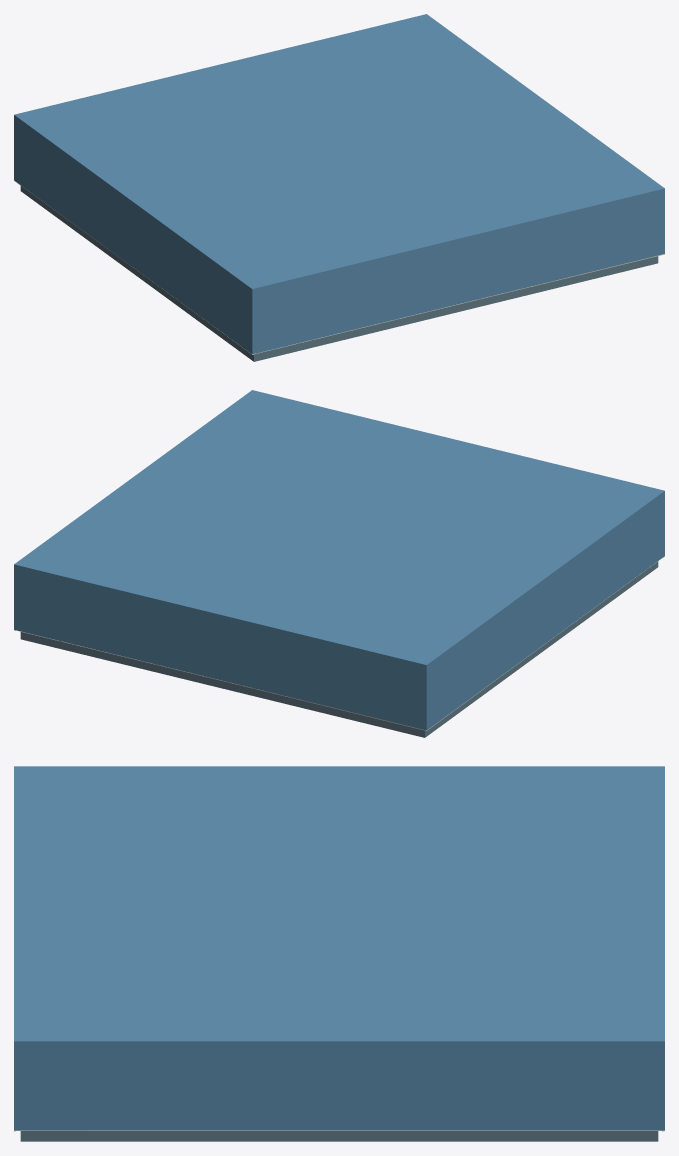
The model's file is watercube-far-85398552c7.glb.
3 renders of one model, top to bottom at view 1: azimuth 30°, elevation 25°; view 2: azimuth 150°, elevation 25°; view 3: azimuth 270°, elevation 25°, orthographic. The views are drawn at different scales.
Parts seen in each view (by area): view 1: watercube coarse.001; view 2: watercube coarse.001; view 3: watercube coarse.001.
Boxes of the visible parts, <box> form: watercube coarse.001: <box>14,14,664,361</box>; watercube coarse.001: <box>14,390,664,737</box>; watercube coarse.001: <box>14,766,664,1141</box>.
Size of the model in its own units: 177 by 31 by 177.
